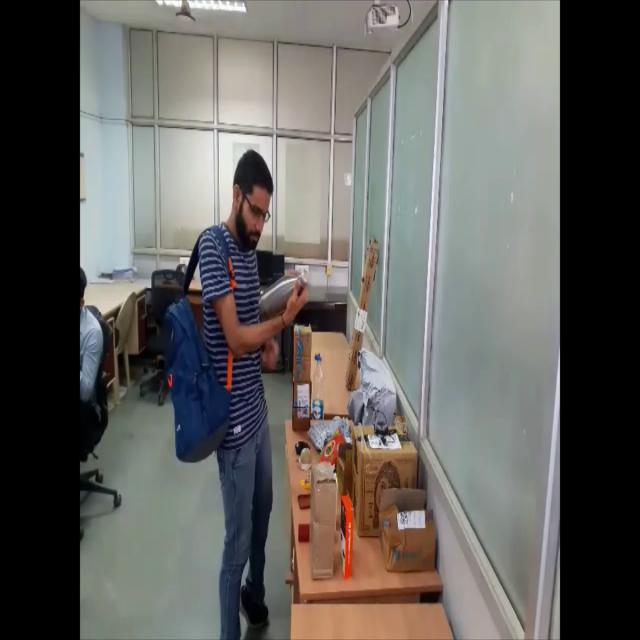normal: (165, 136, 309, 640)
